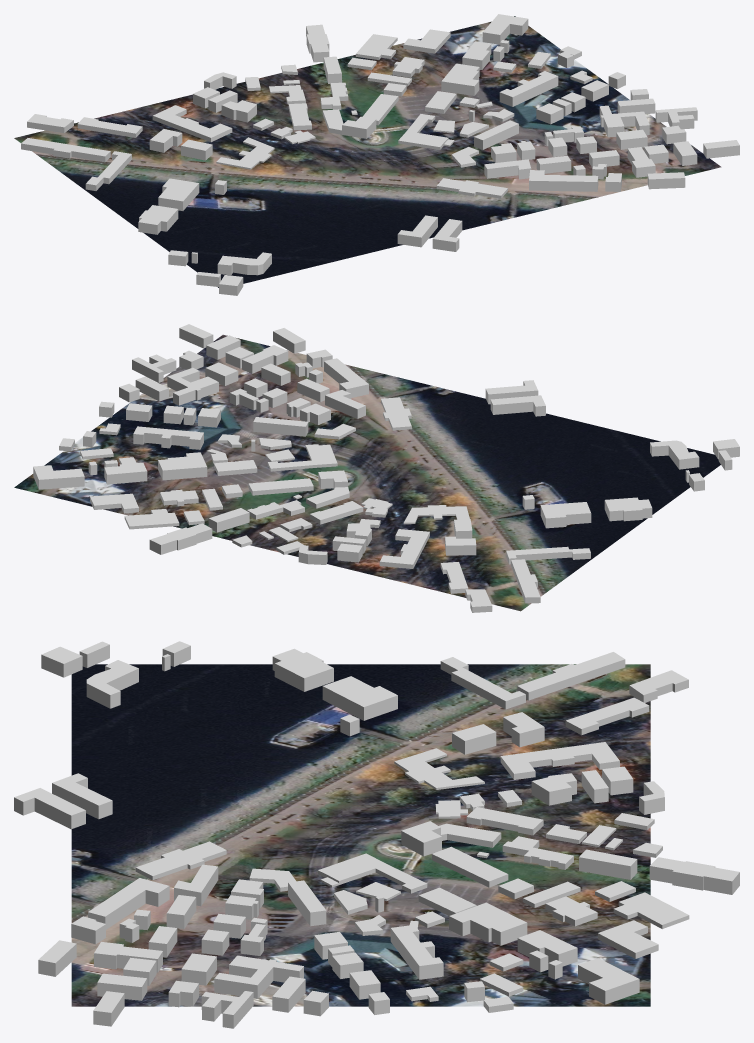
Rendered from Kostroma_Center.fbx.
The picture shows the model from 3 angles, top to bottom: view 1: azimuth 30°, elevation 25°; view 2: azimuth 150°, elevation 25°; view 3: azimuth 270°, elevation 25°; orthographic projection. The views are drawn at different scales.
Parts seen in each view (by area): view 1: EXPORT_GOOGLE_SAT_WM, 175196714, 175200850, 178606720, 179941944, 345700741, Островский, 180055993, 347644339, 175196748, Дом Борщова, 180055994 (+29 smaller); view 2: EXPORT_GOOGLE_SAT_WM, 345700741, 179941944, Бизнес-центр "Старый город", 175196714, 180055993, Островский, 175196748, 180055994, Дом Борщова, 175200850, 178606687 (+31 smaller); view 3: EXPORT_GOOGLE_SAT_WM, 175196714, 345700741, Бизнес-центр "Старый город", Островский, 180055993, 178606720, 175200850, 175196748, 180055994, Дом Борщова, 179941944 (+48 smaller).
Part boxes in pixels (x1,y1,x2,y2): EXPORT_GOOGLE_SAT_WM: [14, 16, 721, 287]; 175196714: [152, 105, 232, 142]; 175200850: [529, 170, 598, 191]; 178606720: [21, 138, 110, 162]; 179941944: [499, 71, 558, 106]; 345700741: [599, 105, 649, 137]; Островский: [441, 63, 479, 95]; 180055993: [158, 178, 199, 210]; 347644339: [217, 252, 271, 275]; 175196748: [482, 14, 528, 44]; Дом Борщова: [398, 114, 448, 149]; 180055994: [138, 205, 178, 234]; EXPORT_GOOGLE_SAT_WM: [14, 334, 720, 611]; 345700741: [167, 367, 218, 405]; 179941944: [133, 426, 203, 449]; Бизнес-центр "Старый город": [149, 523, 212, 554]; 175196714: [379, 529, 429, 568]; 180055993: [540, 502, 591, 528]; Островский: [158, 452, 207, 480]; 175196748: [33, 465, 84, 489]; 180055994: [604, 497, 652, 521]; Дом Борщова: [267, 444, 337, 471]; 175200850: [324, 358, 368, 397]; 178606687: [506, 546, 590, 564]; EXPORT_GOOGLE_SAT_WM: [71, 664, 650, 1006]; 175196714: [500, 742, 619, 779]; 345700741: [214, 955, 303, 998]; Бизнес-центр "Старый город": [649, 857, 739, 894]; Островский: [449, 902, 527, 945]; 180055993: [322, 676, 397, 720]; 178606720: [517, 652, 625, 700]; 175200850: [88, 878, 169, 929]; 175196748: [578, 958, 639, 1004]; 180055994: [272, 648, 333, 691]; Дом Борщова: [318, 853, 427, 893]; 179941944: [390, 924, 443, 979].
Bounding box in the file's own units: 116847 × 2000 × 95871.
